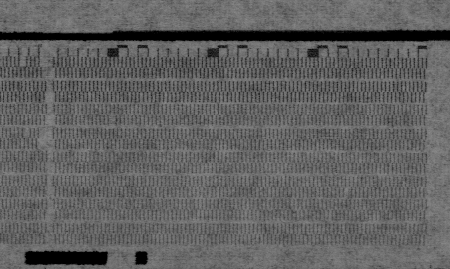Broken hole: (35, 126, 50, 149), (106, 114, 120, 128), (17, 54, 29, 70), (21, 128, 33, 141)
Oblique printing: (342, 186, 355, 201)
